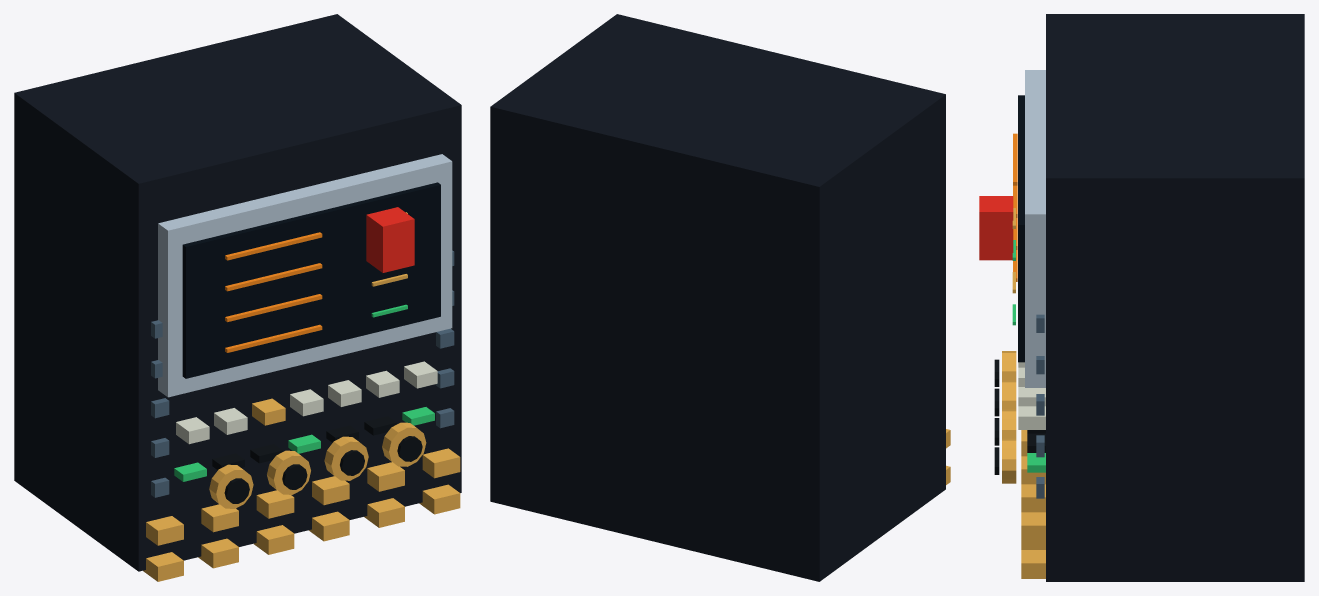
File: 90_L92_FaultDiagnosisAndRepairRouter.fbx
3 renders of one model, left to right at view 1: azimuth 30°, elevation 25°; view 2: azimuth 150°, elevation 25°; view 3: azimuth 270°, elevation 25°, orthographic. The views are drawn at different scales.
Parts seen in each view (by area): view 1: L92_FaultDiagnosisAndRepairRouter, L92_FaultDiagnosisAndRepairRouter_Part_0016, L92_FaultDiagnosisAndRepairRouter_Part_0012, L92_FaultDiagnosisAndRepairRouter_Part_0014, L92_FaultDiagnosisAndRepairRouter_Part_0010; view 2: L92_FaultDiagnosisAndRepairRouter; view 3: L92_FaultDiagnosisAndRepairRouter, L92_FaultDiagnosisAndRepairRouter_Part_0016, L92_FaultDiagnosisAndRepairRouter_Part_0014, L92_FaultDiagnosisAndRepairRouter_Part_0010, L92_FaultDiagnosisAndRepairRouter_Part_0012.
Boxes of the visible parts, left/top/right/bottom form: L92_FaultDiagnosisAndRepairRouter: left=14, top=14, right=461, bottom=581; L92_FaultDiagnosisAndRepairRouter_Part_0016: left=382, top=422, right=426, bottom=466; L92_FaultDiagnosisAndRepairRouter_Part_0012: left=267, top=450, right=310, bottom=494; L92_FaultDiagnosisAndRepairRouter_Part_0014: left=324, top=436, right=368, bottom=480; L92_FaultDiagnosisAndRepairRouter_Part_0010: left=209, top=464, right=253, bottom=508; L92_FaultDiagnosisAndRepairRouter: left=490, top=14, right=950, bottom=581; L92_FaultDiagnosisAndRepairRouter: left=979, top=14, right=1304, bottom=581; L92_FaultDiagnosisAndRepairRouter_Part_0016: left=1002, top=438, right=1016, bottom=483; L92_FaultDiagnosisAndRepairRouter_Part_0014: left=1002, top=409, right=1016, bottom=438; L92_FaultDiagnosisAndRepairRouter_Part_0010: left=1002, top=351, right=1016, bottom=380; L92_FaultDiagnosisAndRepairRouter_Part_0012: left=1002, top=380, right=1016, bottom=409.
Bounding box in the file's own units: 112 × 130 × 94.05.
